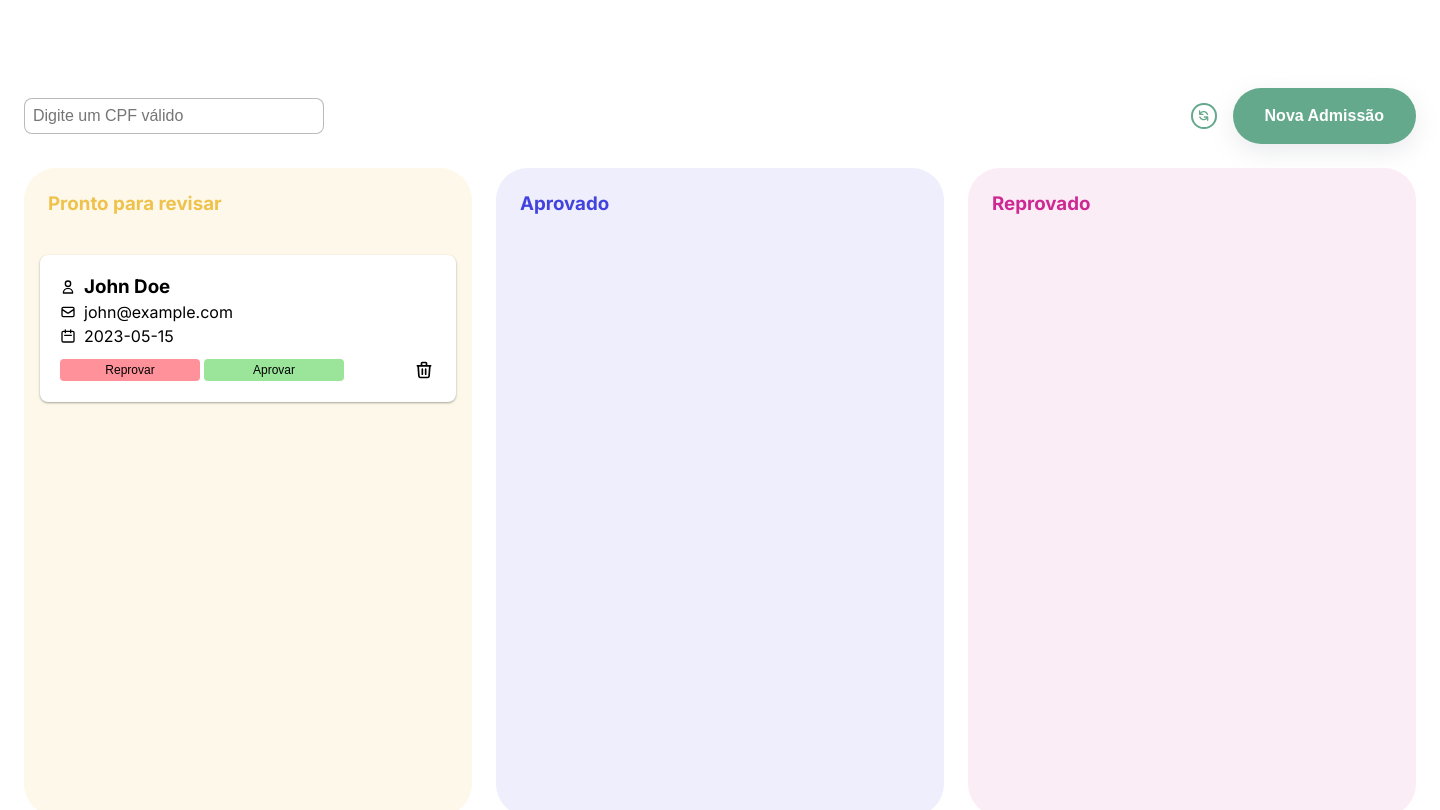
Test case: DashboardPage › should close modal when pressing Escape
Click the button "Aprovar" at (274, 370), box [204, 359, 344, 381]
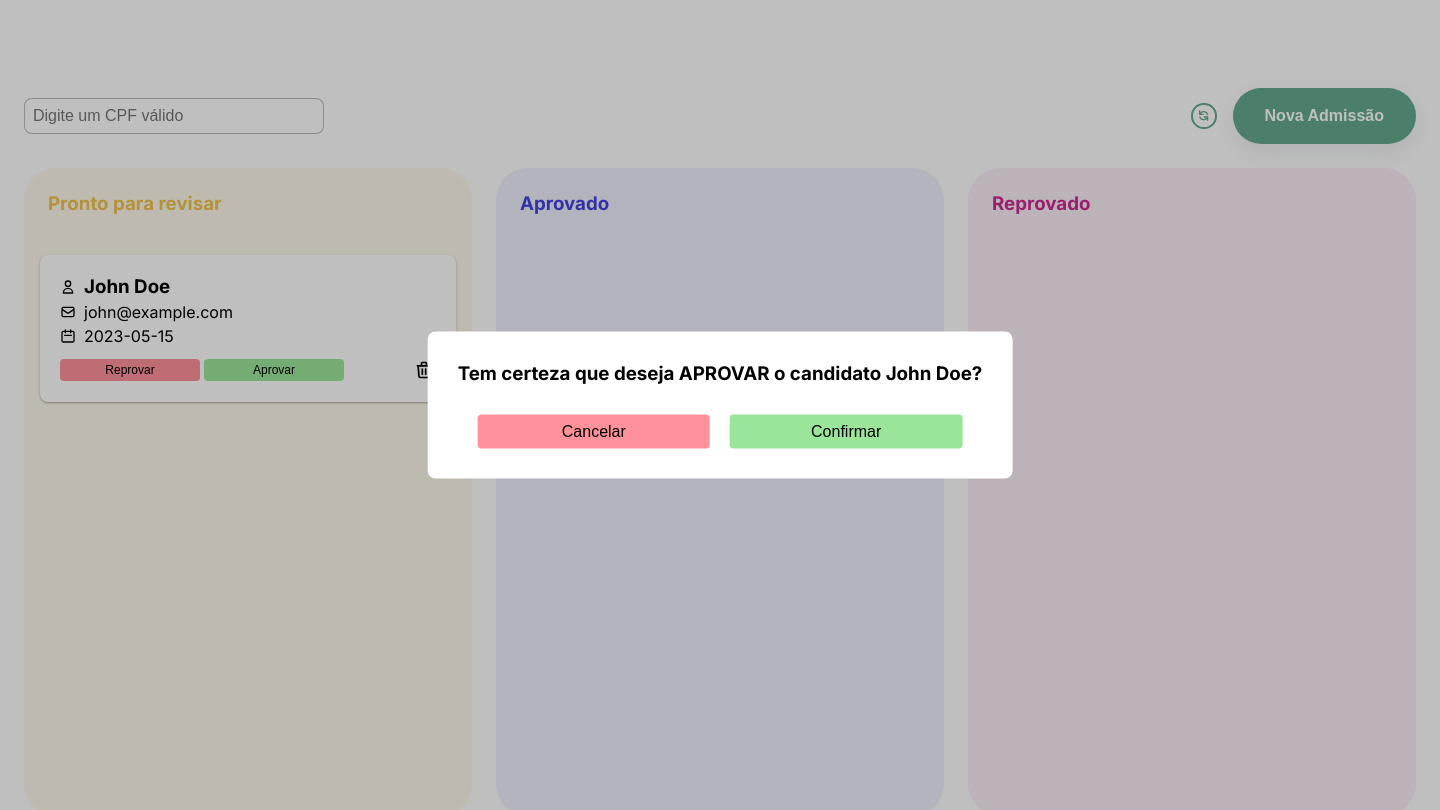
Expected: the heading "Tem certeza que deseja APROVAR o candidato John Doe?" is shown, [458, 362, 982, 384]
Press Escape
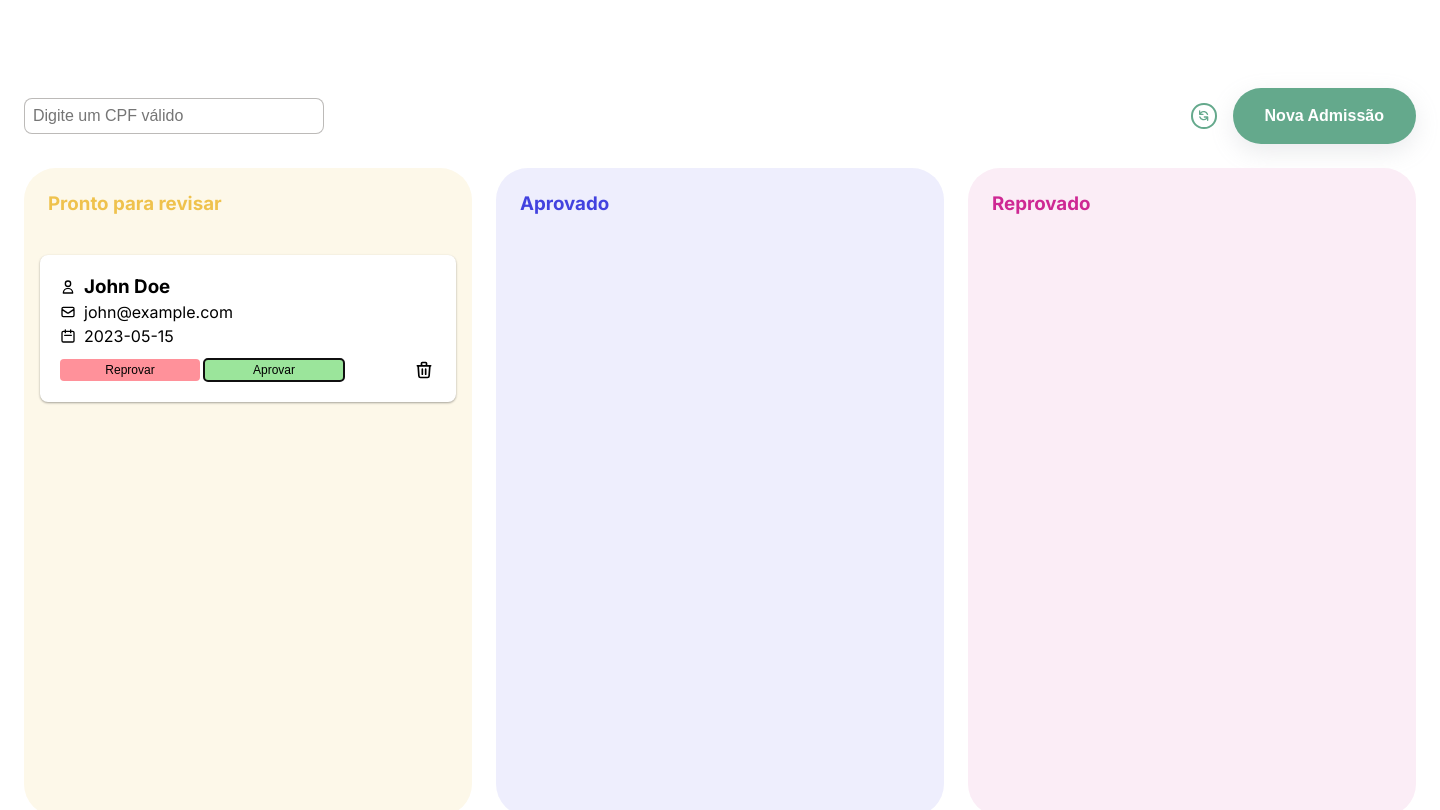
Expected: the heading "Tem certeza que deseja APROVAR o candidato John Doe" is gone
